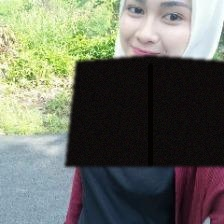Cadar_Niqab: (65, 0, 224, 166)
